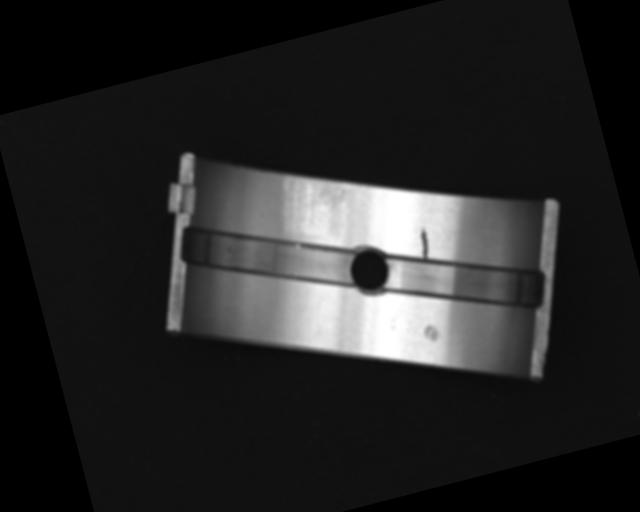bruise: (420, 321, 441, 344)
gap: (180, 194, 360, 322), (382, 227, 549, 340)
hole: (345, 245, 395, 296)
nick: (414, 223, 434, 261)
scratch: (274, 152, 353, 239)
